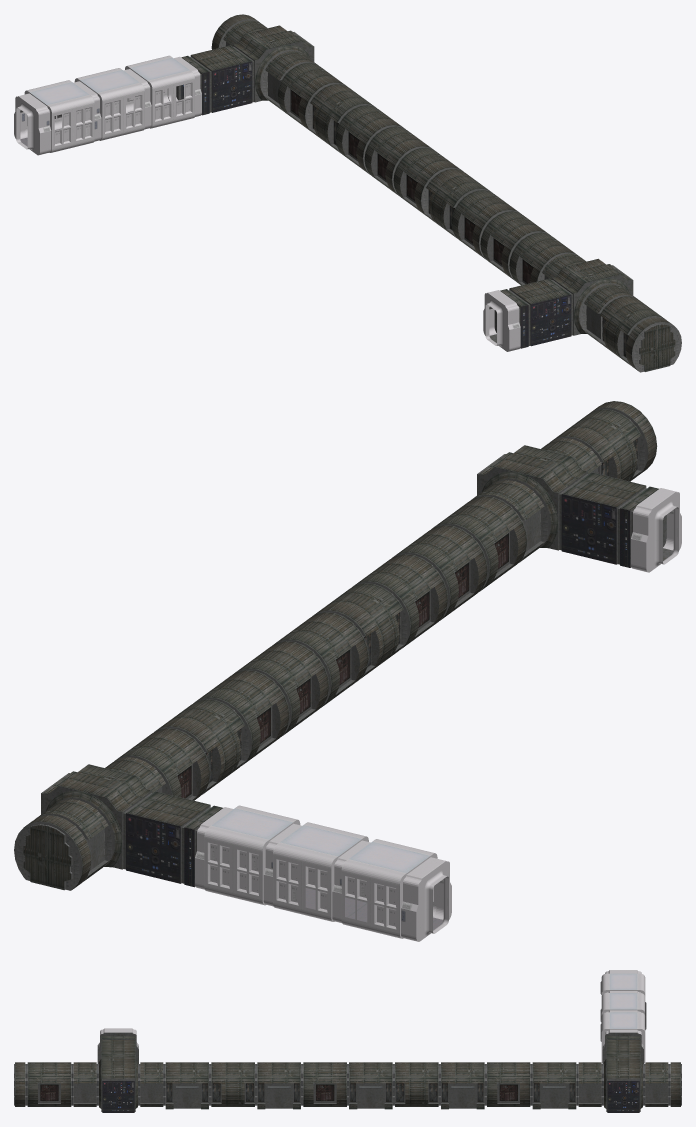
Rendered from thm_spc_corvette_dungeon_r34_escapepods34_mesh_r34.fbx.
3 renders of one model, top to bottom at view 1: azimuth 30°, elevation 25°; view 2: azimuth 150°, elevation 25°; view 3: azimuth 270°, elevation 25°, orthographic. The views are drawn at different scales.
Visible parts, largest first — view 1: mesh_node; view 2: mesh_node; view 3: mesh_node.
Boxes of the visible parts, x1,y1,x2,y2 form: mesh_node: [14, 14, 681, 372]; mesh_node: [14, 401, 681, 941]; mesh_node: [14, 970, 681, 1112].
Bounding box in the file's own units: 22.5 × 3.8 × 58.2.
